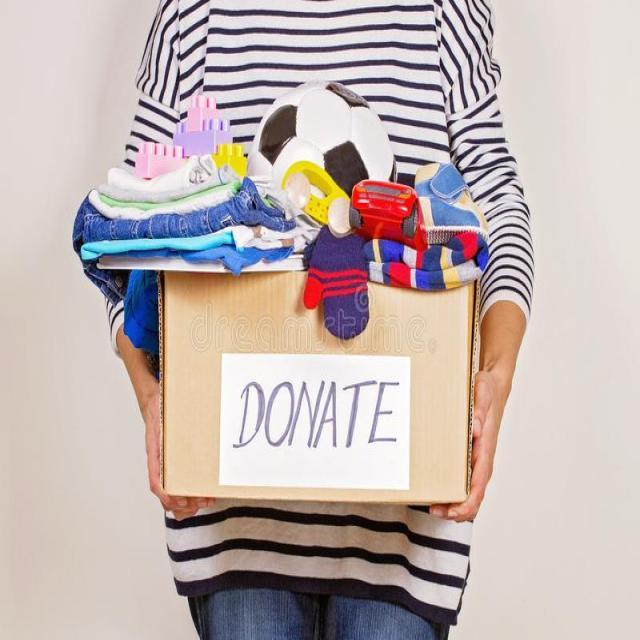clothes: (92, 140, 268, 278)
